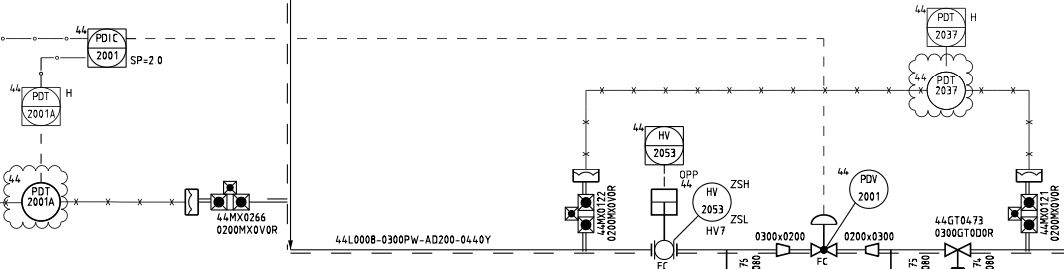Instrument: (833, 164, 894, 212), (677, 178, 733, 221), (913, 68, 965, 110)
Instrument-square: (912, 2, 970, 49), (72, 24, 128, 71), (632, 119, 685, 168), (8, 80, 62, 127)
